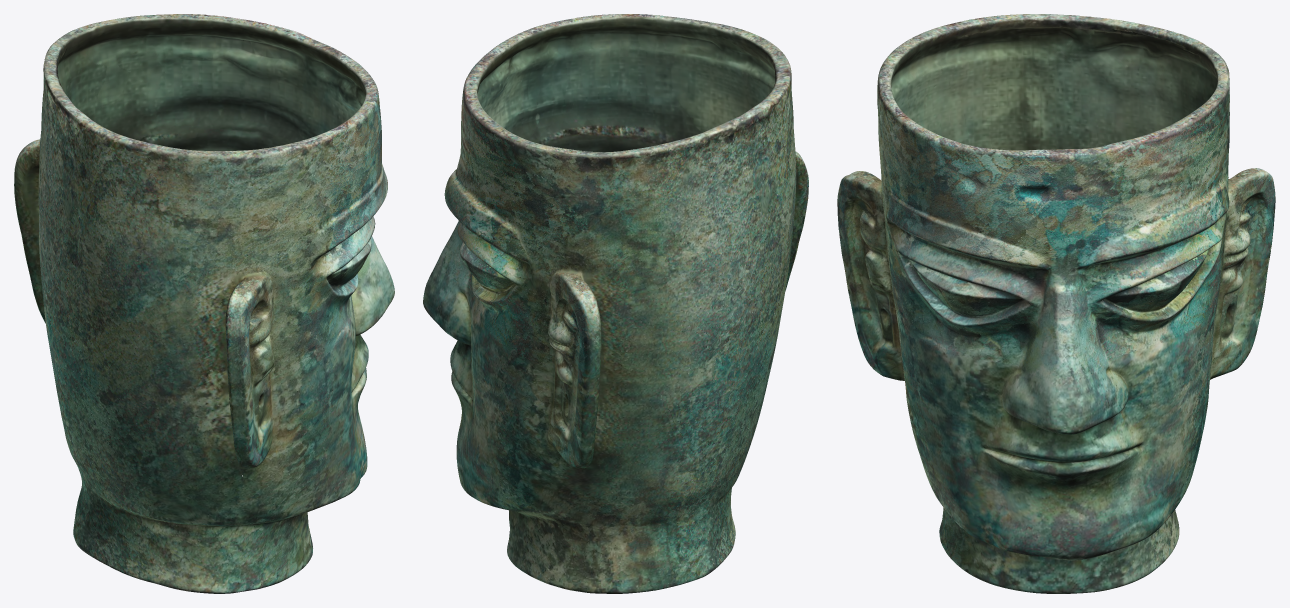
File: bronze-head-web-desktop.glb
3 renders of one model, left to right at view 1: azimuth 30°, elevation 25°; view 2: azimuth 150°, elevation 25°; view 3: azimuth 270°, elevation 25°, orthographic.
Visible parts, largest first — view 1: tripo_node_1d5d6238-d876-4f96-a7d3-8cf36552cf0d; view 2: tripo_node_1d5d6238-d876-4f96-a7d3-8cf36552cf0d; view 3: tripo_node_1d5d6238-d876-4f96-a7d3-8cf36552cf0d.
Boxes of the visible parts, bbox=[...] form: tripo_node_1d5d6238-d876-4f96-a7d3-8cf36552cf0d: bbox=[14, 14, 394, 593]; tripo_node_1d5d6238-d876-4f96-a7d3-8cf36552cf0d: bbox=[423, 14, 808, 593]; tripo_node_1d5d6238-d876-4f96-a7d3-8cf36552cf0d: bbox=[837, 14, 1275, 593].
Size of the model in its own units: 0.7201 by 0.9803 by 0.827.
Materials: 1 (1 with a texture image).
